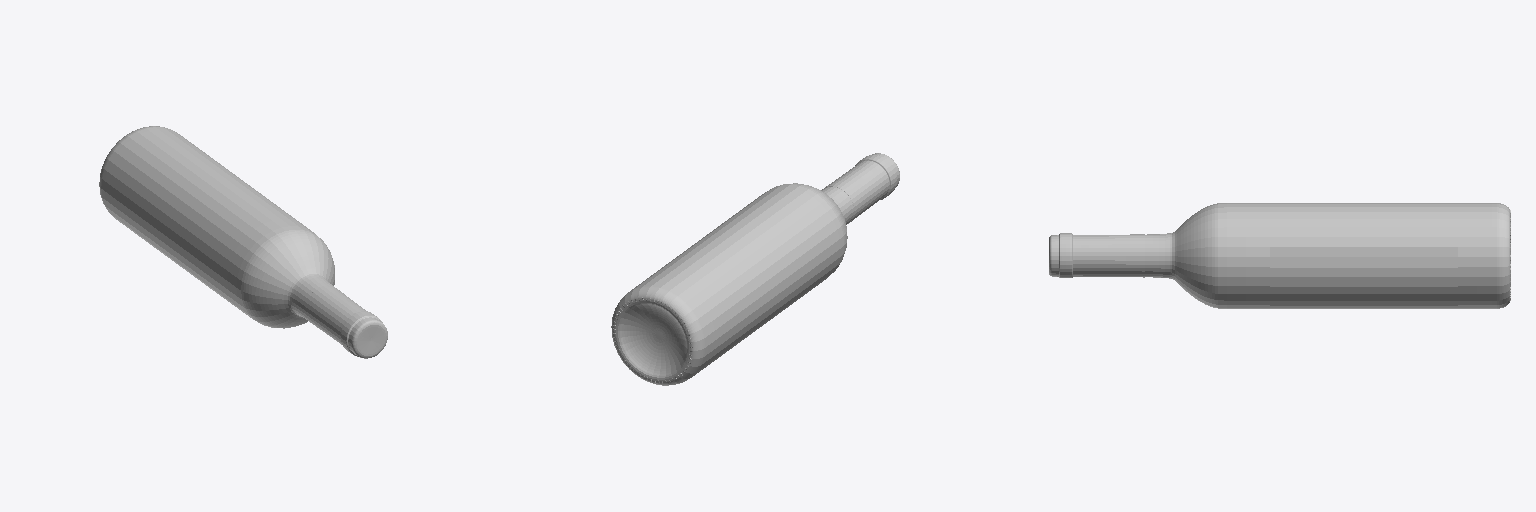
The model's file is ScreamingEagle.obj.
The picture shows the model from 3 angles: view 1: azimuth 30°, elevation 25°; view 2: azimuth 150°, elevation 25°; view 3: azimuth 270°, elevation 25°; orthographic projection.
Size of the model in its own units: 67.75 by 67.78 by 295.